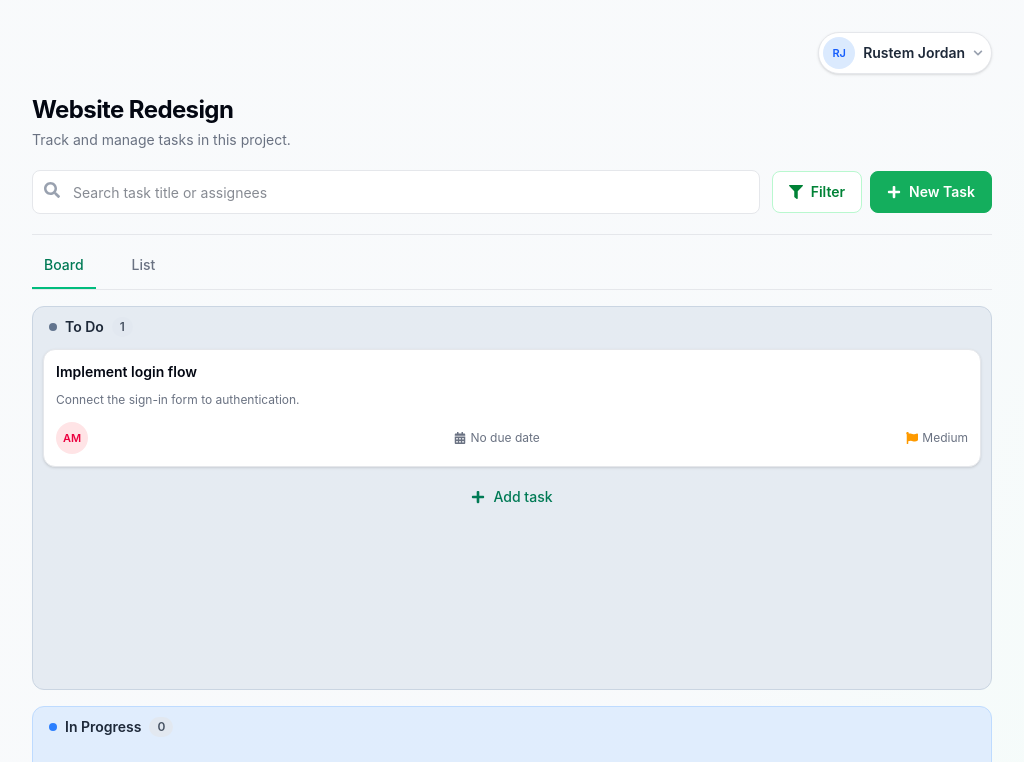
Test: Task page › filters board cards by task title
The image size is (1024, 762).
Expected: the button "Implement login flow" is shown, [43,349,981,467]
Step 1. Type "database schema" into the field named "Search tasks" → (396, 192), box [32,170,760,214]
(page scrolled)
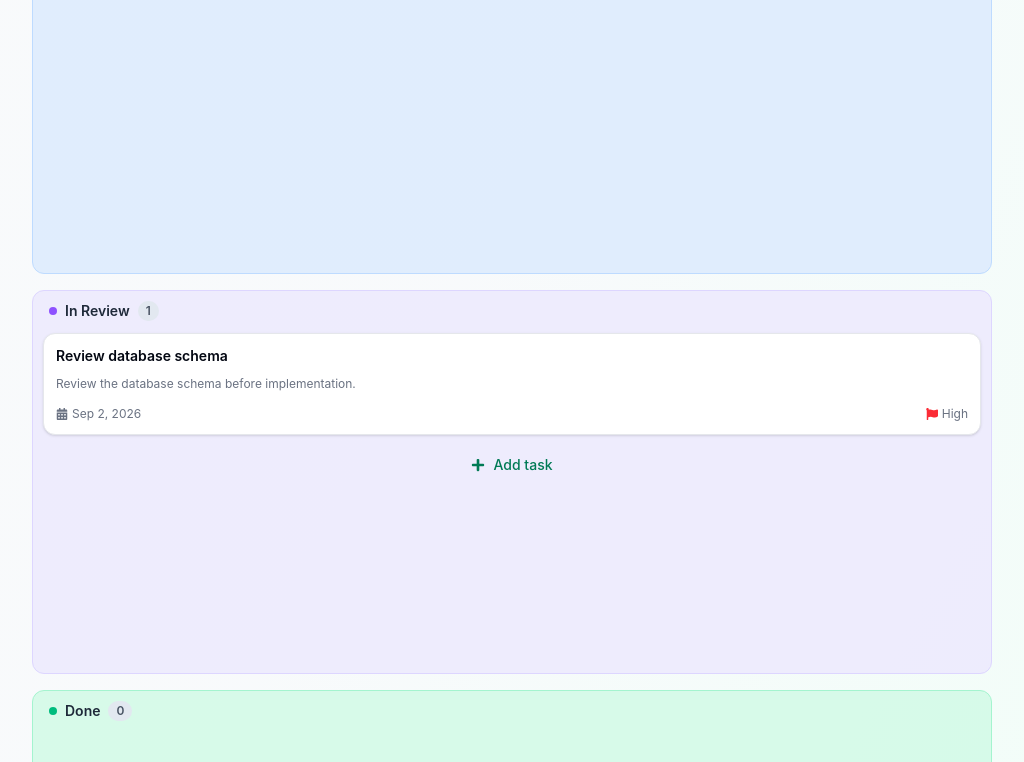
Expected: the button "Review database schema" is shown, [43,333,981,435]
Now the button "Implement login flow" is gone
